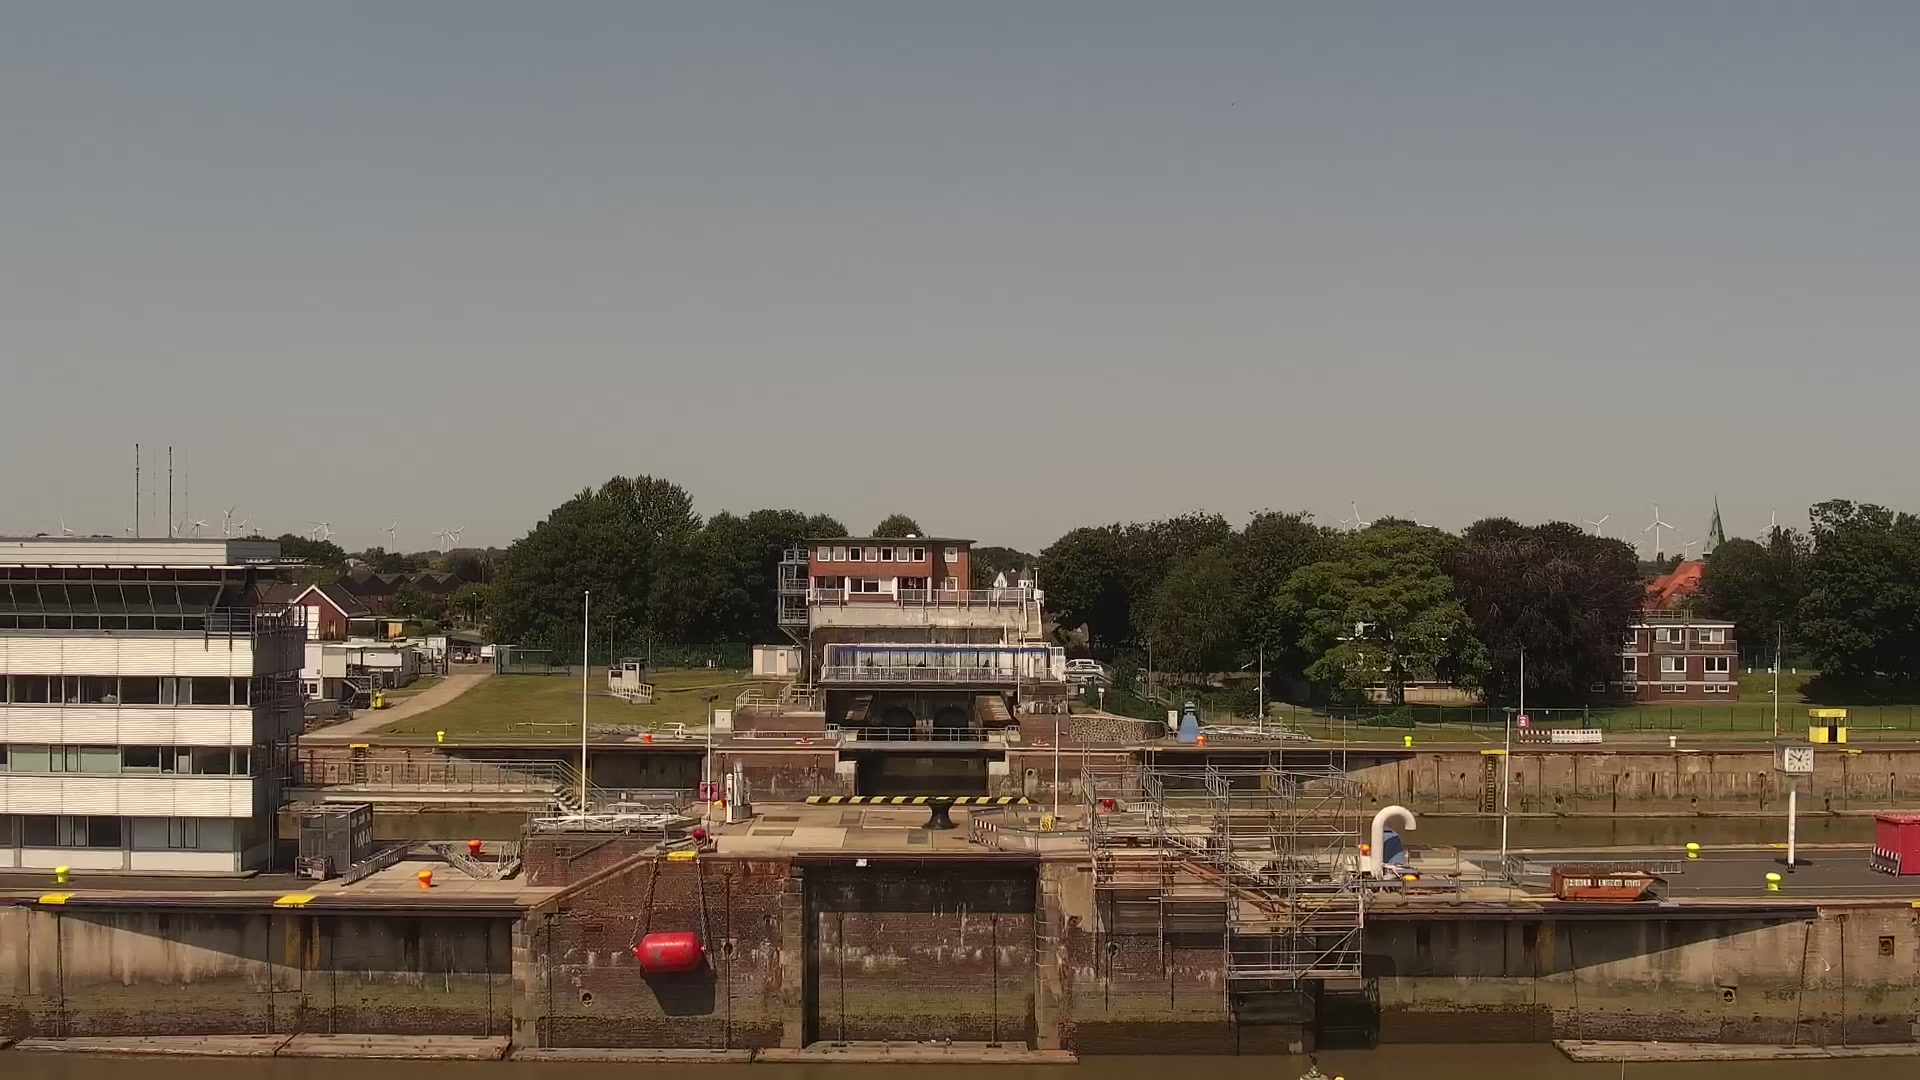human: (865, 657, 873, 676)
land: (1061, 657, 1093, 666), (1066, 663, 1103, 671), (436, 619, 450, 631), (451, 651, 464, 663), (465, 651, 478, 663)
